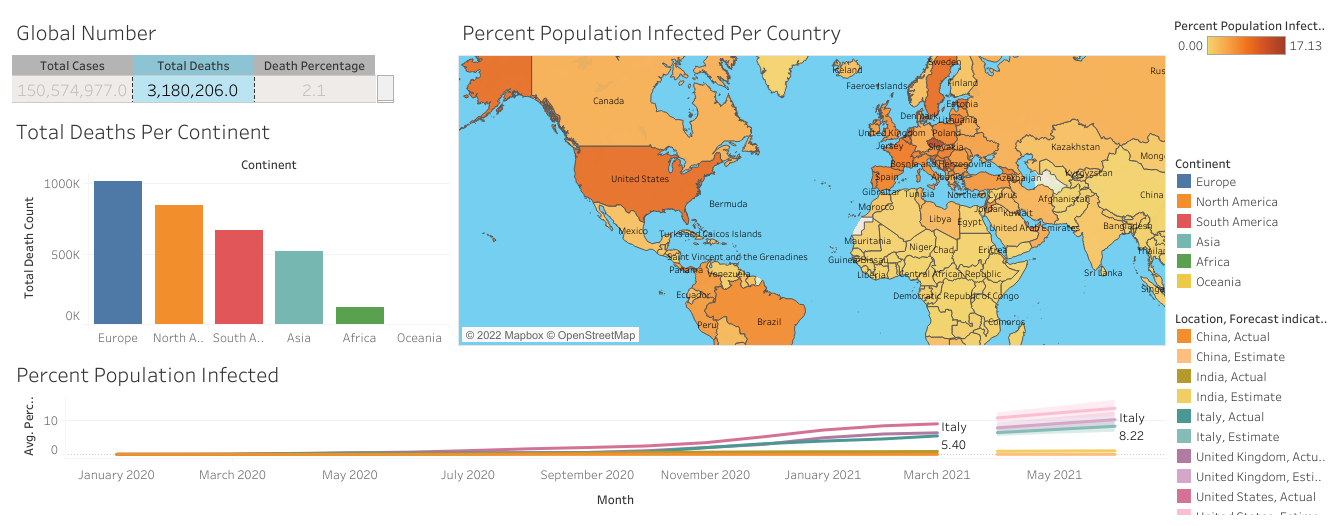

What the dashboard file says about the page in this screenshot:
{"tool":"tableau","page":{"name":"Dashboard 1","canvas":[1000,1000],"units":"permille","ordinal":0},"visuals":[{"type":"worksheet","title":"Sheet 1","mark":"Automatic","box":[6.8,13.5,325.9,189.2]},{"type":"worksheet","title":"Sheet 3","mark":"Automatic","box":[332.8,13.5,523,652]},{"type":"legend","title":"Sheet 3","param":"[federated.1f3xgoj1elb95e1118ll308ped60].[sum:PercentPopulationInfected:qk]","box":[855.8,13.5,137.4,236.5]},{"type":"worksheet","title":"Sheet 2","mark":"Automatic","rows":["TotalDeathCount"],"cols":["location"],"box":[6.8,202.7,325.9,462.8]},{"type":"legend","title":"Sheet 2","param":"[federated.0809ot91q401q111chbet13u1yoe].[none:location:nk]","box":[855.8,250,137.4,283.8]},{"type":"legend","title":"Sheet 4","param":"[federated.0nioekw0e5xxz511awwao0kp9f6s].[none:Location:nk]\n[federated.0nioekw0e","box":[855.8,576,137.4,410.5]},{"type":"worksheet","title":"Sheet 4","mark":"Automatic","rows":["PercentPopulationInfected"],"cols":["date"],"box":[6.8,665.5,849,320.9]}]}

Visuals, with their boxes on the dashboard's canvas, which has no fixed pixel size, in thousandths of its width and height (x1, y1, x2, y2). These are canvas units, not pixel positions in the 1338x526 screenshot, which may show the page scaled, cropped or inside an application window:
"Sheet 1" worksheet: x1=7, y1=14, x2=333, y2=203
"Sheet 3" worksheet: x1=333, y1=14, x2=856, y2=666
"Sheet 3" legend: x1=856, y1=14, x2=993, y2=250
"Sheet 2" worksheet: x1=7, y1=203, x2=333, y2=666
"Sheet 2" legend: x1=856, y1=250, x2=993, y2=534
"Sheet 4" legend: x1=856, y1=576, x2=993, y2=986
"Sheet 4" worksheet: x1=7, y1=666, x2=856, y2=986
